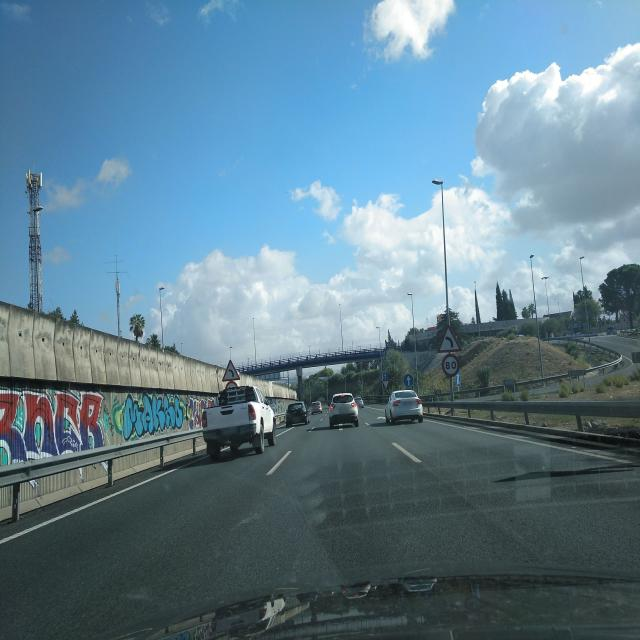car: (384, 389, 424, 423), (329, 391, 359, 427), (285, 401, 310, 426), (310, 400, 322, 414), (354, 396, 364, 408)
